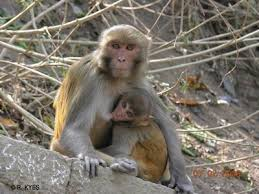monkey: (51, 11, 144, 167), (96, 76, 183, 179)
